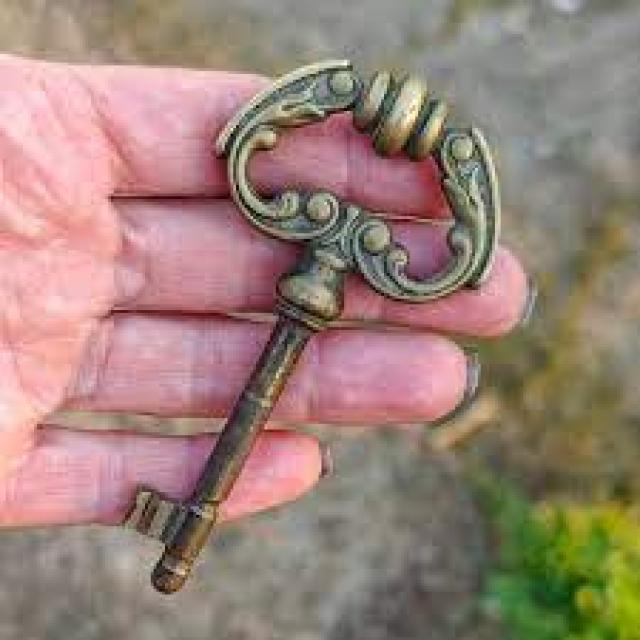key: (127, 11, 550, 598)
